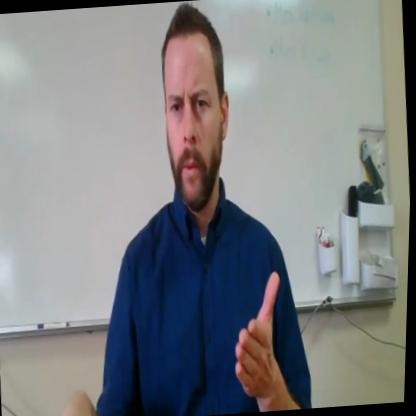Expensive: (91, 248, 307, 416)
